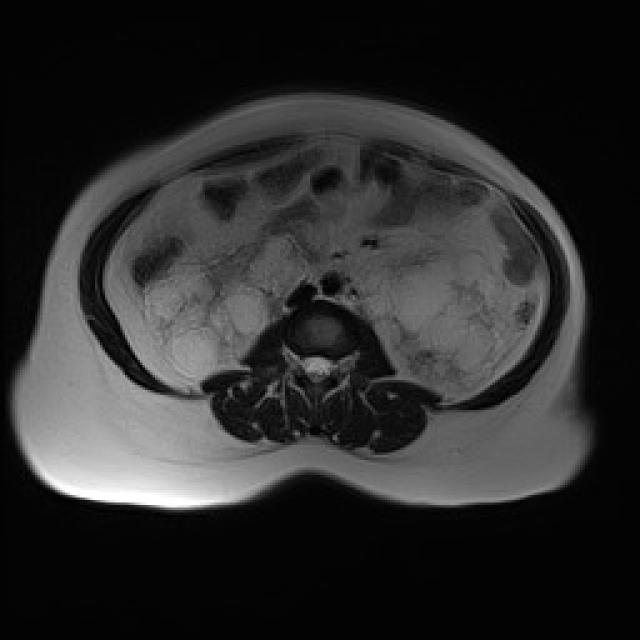sag: (140, 237, 309, 382)
sol: (358, 242, 537, 394)
